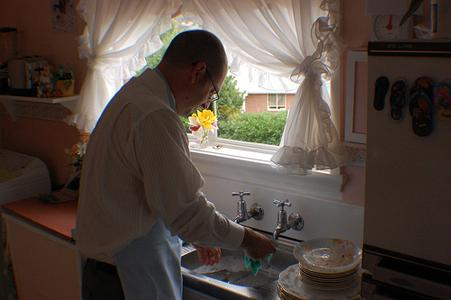person: (74, 29, 279, 300)
